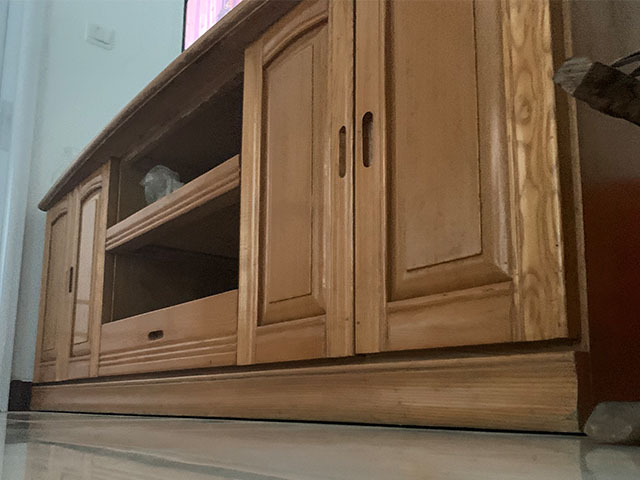cabinet: (27, 1, 640, 437)
